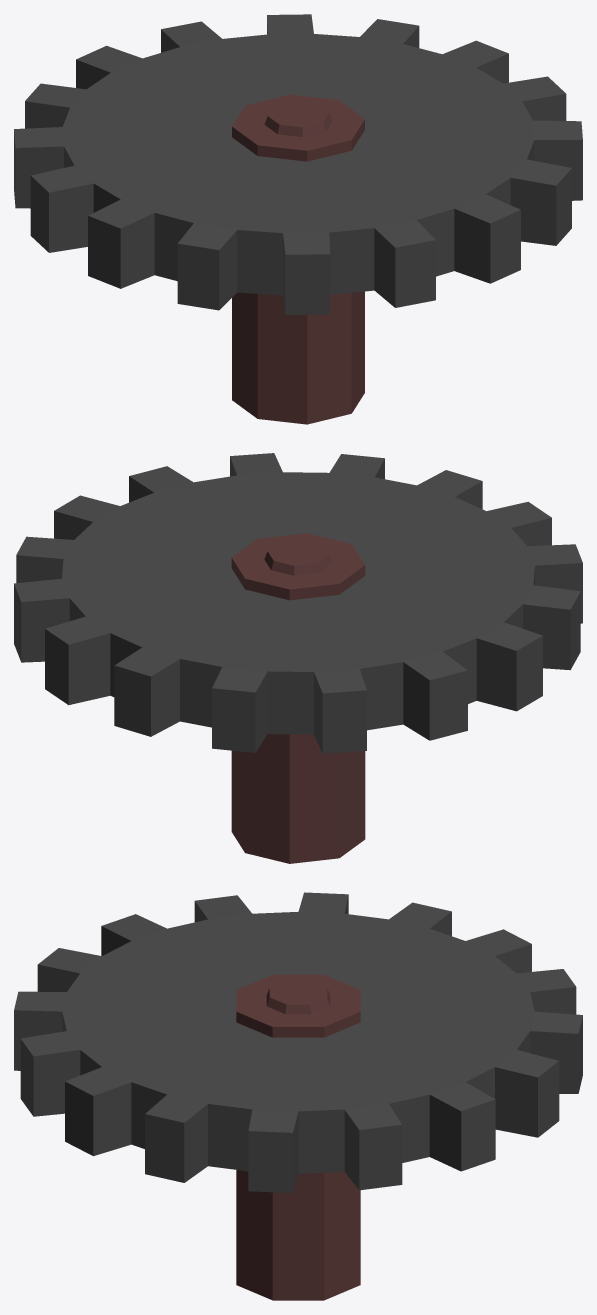
The model's file is Cog.fbx.
The picture shows the model from 3 angles, top to bottom: view 1: azimuth 30°, elevation 25°; view 2: azimuth 150°, elevation 25°; view 3: azimuth 270°, elevation 25°; orthographic projection.
Parts seen in each view (by area): view 1: Cylinder; view 2: Cylinder; view 3: Cylinder.
Part boxes in pixels (x1,y1,x2,y2): Cylinder: (14, 14, 582, 424); Cylinder: (14, 453, 582, 863); Cylinder: (14, 892, 582, 1300).
Bounding box in the file's own units: 241 × 132 × 241.
